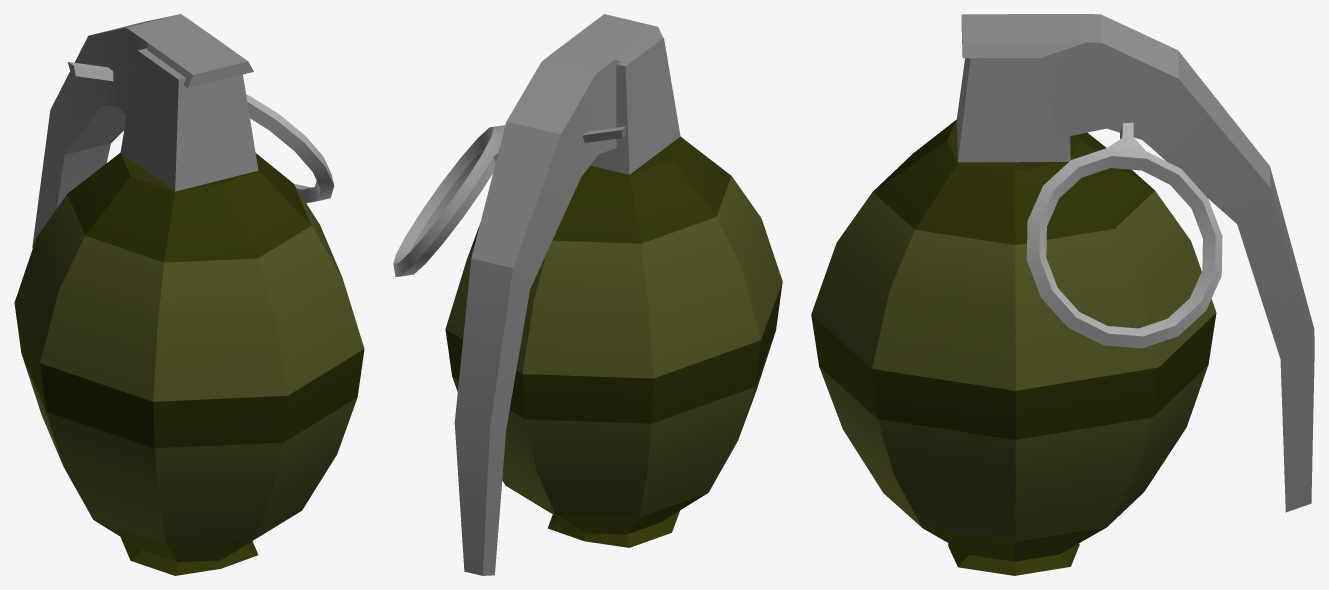
File: Granada.fbx
3 views of the same model, side by side, from view 1: azimuth 30°, elevation 25°; view 2: azimuth 150°, elevation 25°; view 3: azimuth 270°, elevation 25° (orthographic). The views are drawn at different scales.
Parts seen in each view (by area): view 1: explosive_1; view 2: explosive_1; view 3: explosive_1.
Part boxes in pixels (left/top/right/bottom): explosive_1: left=14, top=14, right=364, bottom=575; explosive_1: left=393, top=14, right=782, bottom=575; explosive_1: left=811, top=14, right=1314, bottom=575.
Size of the model in its own units: 27.86 by 41.14 by 36.08.
1 material, 1 textured.
